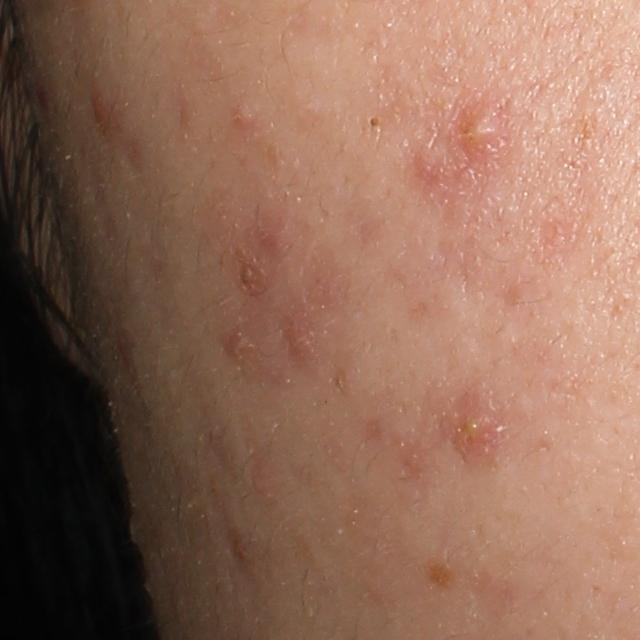comedo: (366, 113, 384, 132)
papule: (450, 104, 514, 162), (285, 308, 324, 364), (235, 254, 276, 295), (82, 84, 115, 134), (229, 110, 251, 129)
